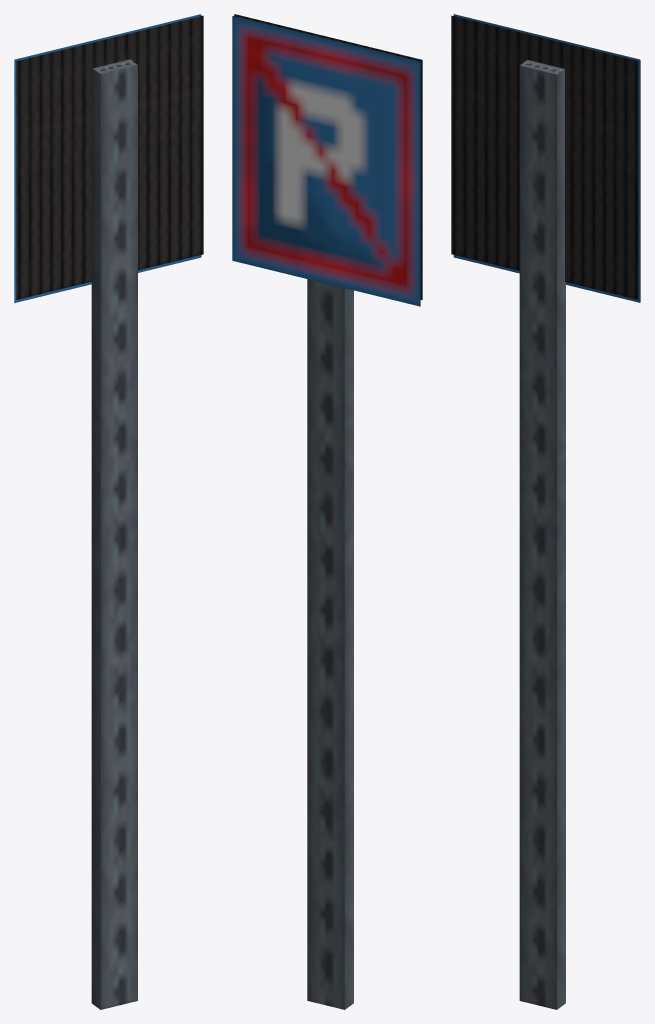
File: BGN_SIGN(NO PARK).fbx
3 views of the same model, side by side, from view 1: azimuth 30°, elevation 25°; view 2: azimuth 150°, elevation 25°; view 3: azimuth 330°, elevation 25° (orthographic).
Visible parts, largest first — view 1: BGN_SIGN_NO_PARK___1_; view 2: BGN_SIGN_NO_PARK___1_; view 3: BGN_SIGN_NO_PARK___1_.
Part boxes in pixels (left/top/right/bottom): BGN_SIGN_NO_PARK___1_: left=14, top=14, right=203, bottom=1009; BGN_SIGN_NO_PARK___1_: left=232, top=14, right=422, bottom=1009; BGN_SIGN_NO_PARK___1_: left=451, top=14, right=640, bottom=1009.
Size of the model in its own units: 91.52 by 449 by 8.55.
1 material, 1 textured.
